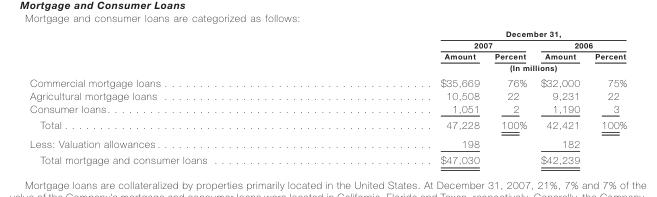table: (29, 28, 626, 165)
table column: (29, 28, 323, 165), (323, 28, 486, 165), (533, 28, 586, 165), (486, 28, 533, 165), (586, 28, 626, 165)
table column header: (29, 28, 626, 74)
table row: (29, 116, 626, 134), (29, 134, 626, 151), (29, 74, 626, 89), (29, 101, 626, 116), (29, 151, 626, 165), (29, 61, 626, 74), (29, 38, 626, 50), (29, 89, 626, 101), (29, 50, 626, 61), (29, 28, 626, 38)
table spanning cell: (323, 61, 626, 74), (323, 28, 626, 38), (323, 38, 533, 50), (533, 38, 626, 50)
